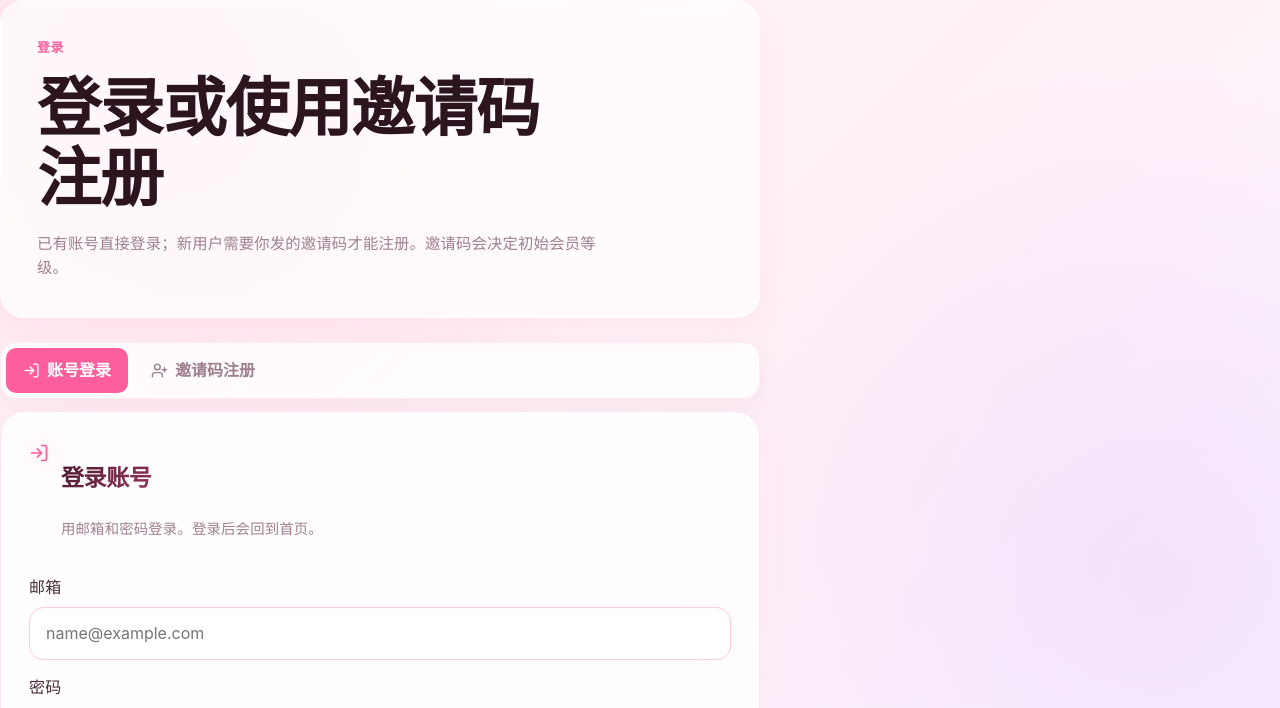
Scenario: LoginView › shows invite registration fields only after choosing invite registration
Click the tab "邀请码注册".
click(203, 370)  # box [134, 348, 272, 393]
(page scrolled)
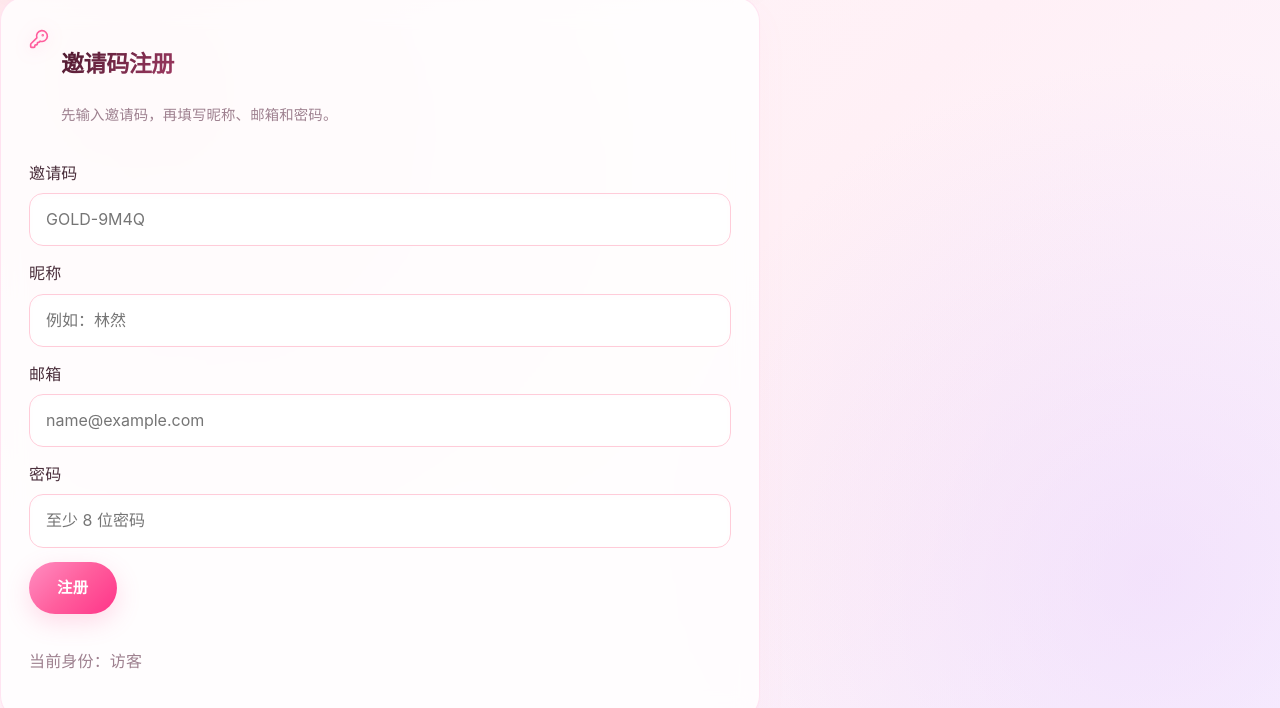
Now the heading "邀请码注册" is shown, box [61, 45, 338, 84]
Now the field labelled "邀请码" is shown, box [29, 193, 731, 246]
Now the field labelled "昵称" is shown, box [29, 294, 731, 347]
